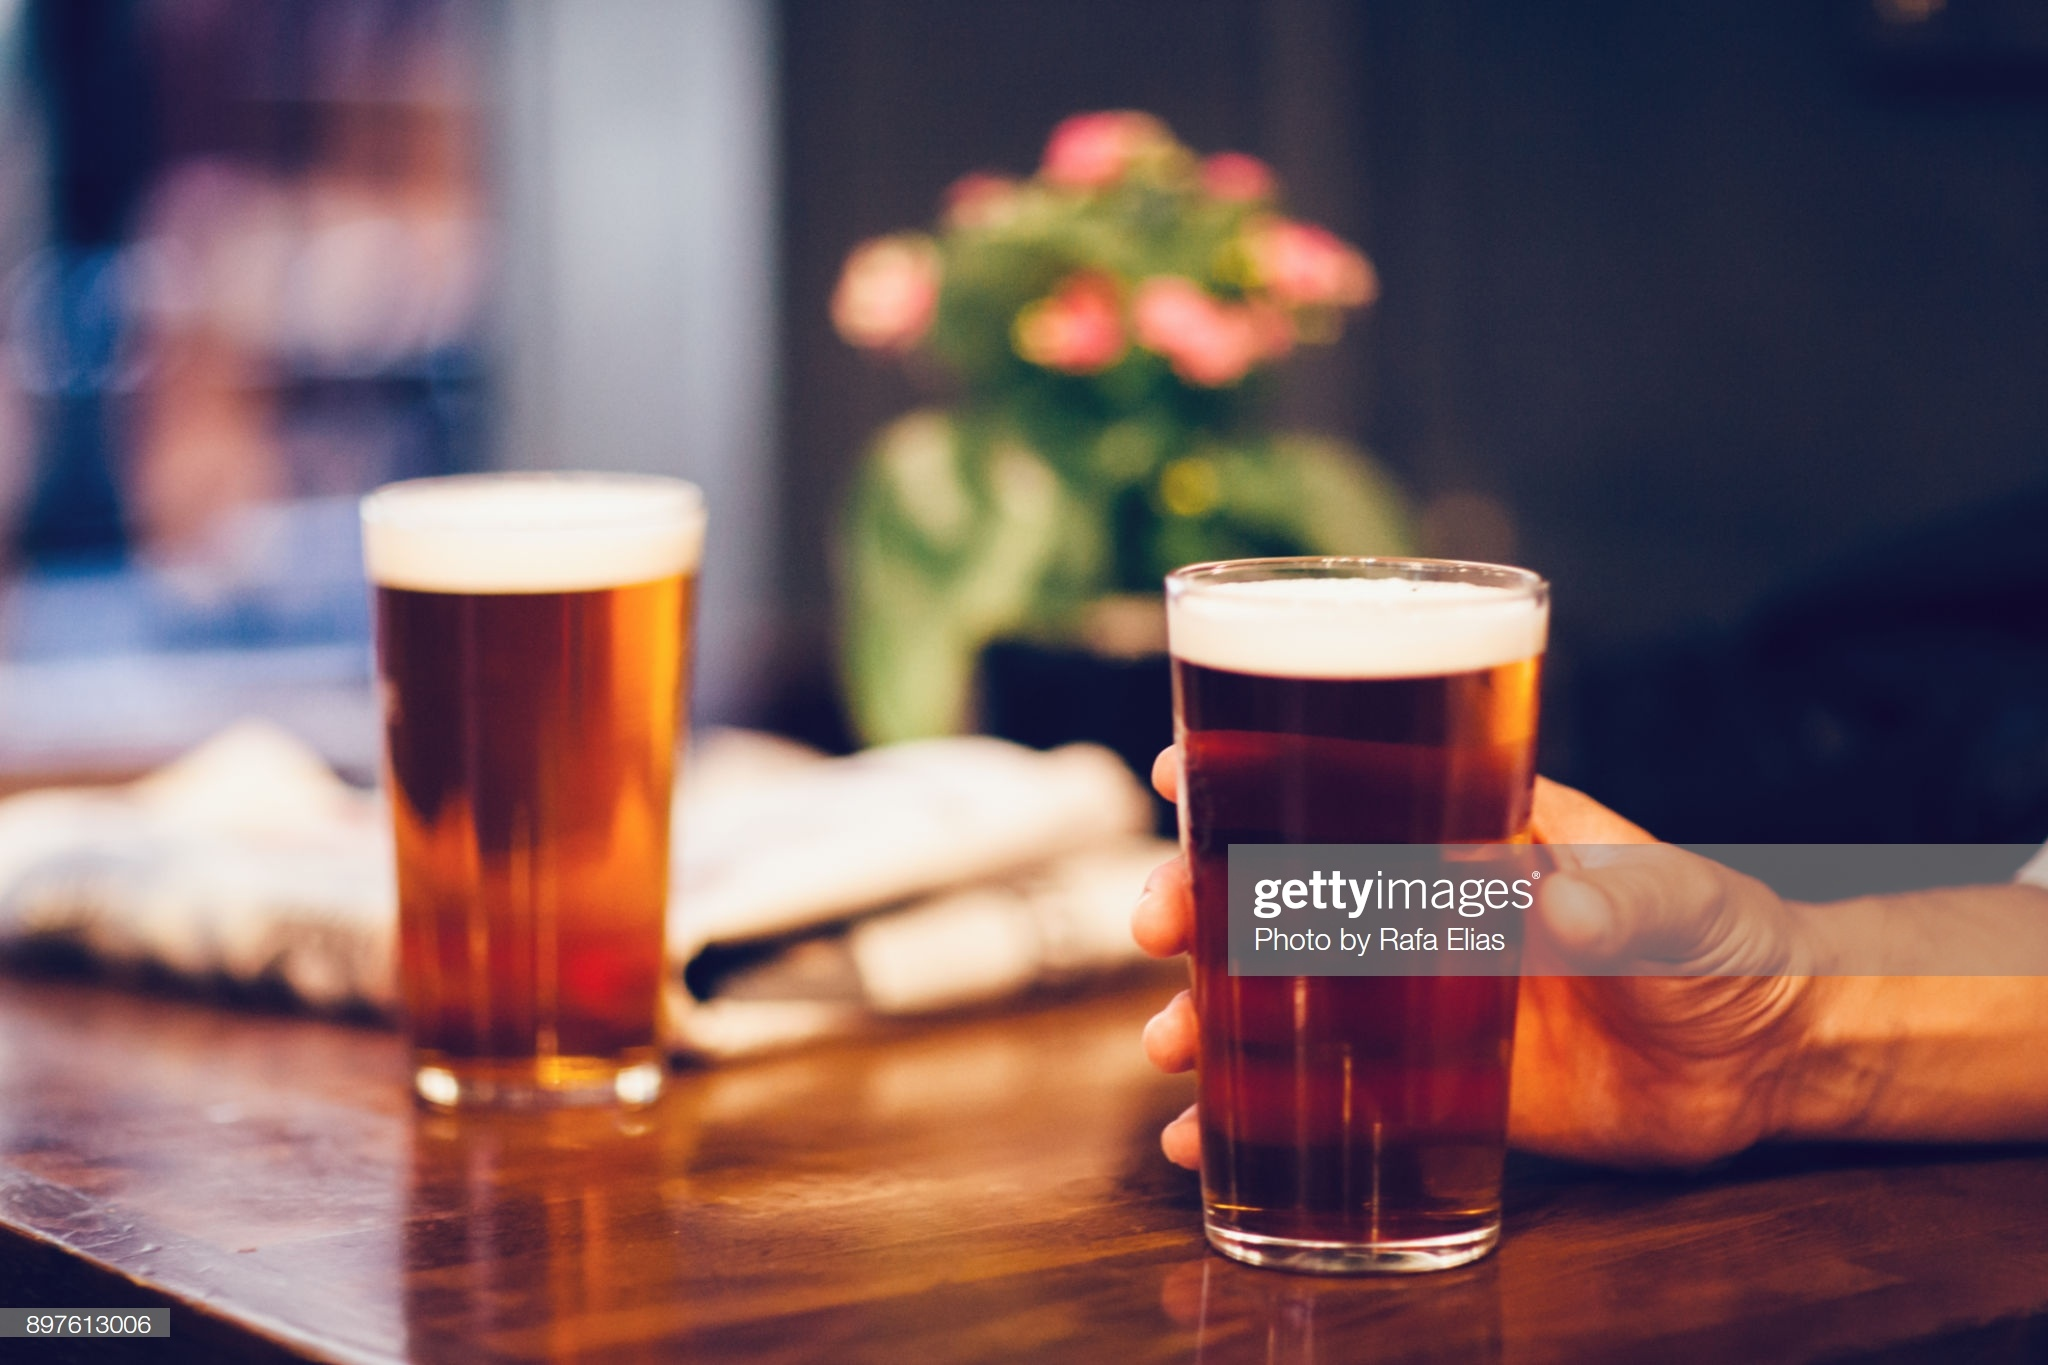glassBeer: (1166, 558, 1536, 1271)
